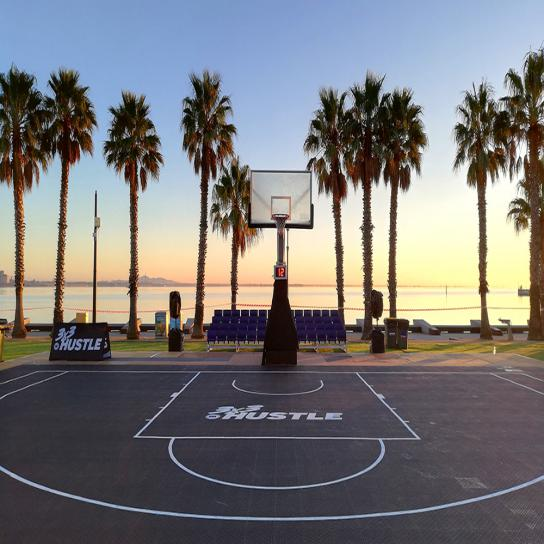basketball-hoop: (271, 212, 290, 235)
